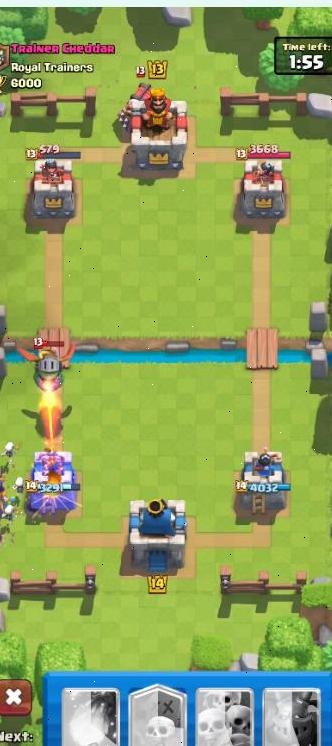enemy_inferno_dragon: (19, 330, 78, 400)
player_skeletons: (2, 499, 23, 527), (0, 437, 22, 461), (9, 476, 29, 496)
player_witch: (0, 463, 9, 522)
